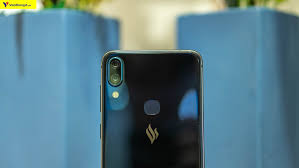vsmart: (97, 45, 203, 168)
